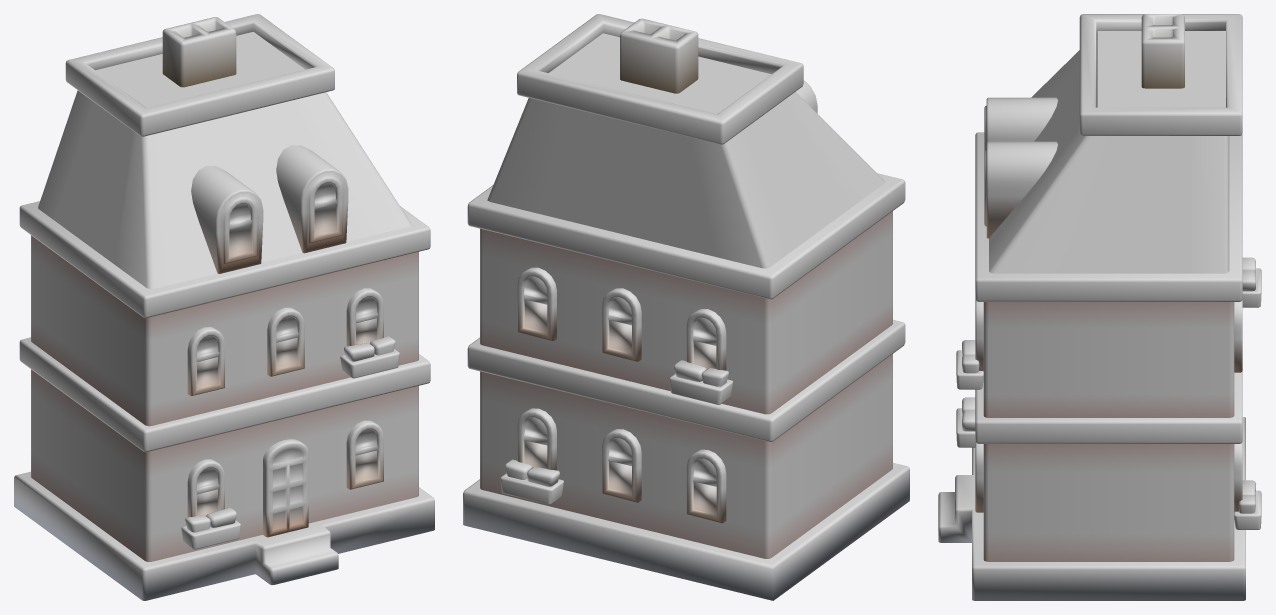
The model's file is Building_068.fbx.
3 views of the same model, side by side, from view 1: azimuth 30°, elevation 25°; view 2: azimuth 150°, elevation 25°; view 3: azimuth 270°, elevation 25° (orthographic). The views are drawn at different scales.
Parts seen in each view (by area): view 1: Building_068; view 2: Building_068; view 3: Building_068.
Boxes of the visible parts, left/top/right/bottom form: Building_068: left=14, top=14, right=434, bottom=600; Building_068: left=463, top=14, right=909, bottom=600; Building_068: left=938, top=14, right=1261, bottom=600.
Bounding box in the file's own units: 856 × 773 × 1316.
